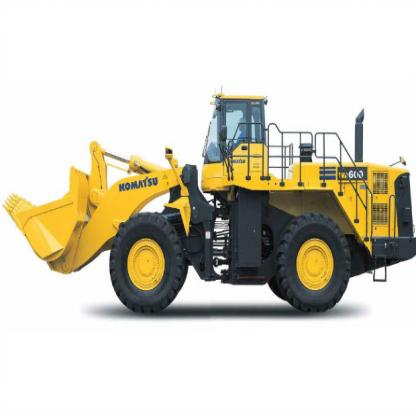bull_dozer/loader/grader: (3, 78, 415, 326)
